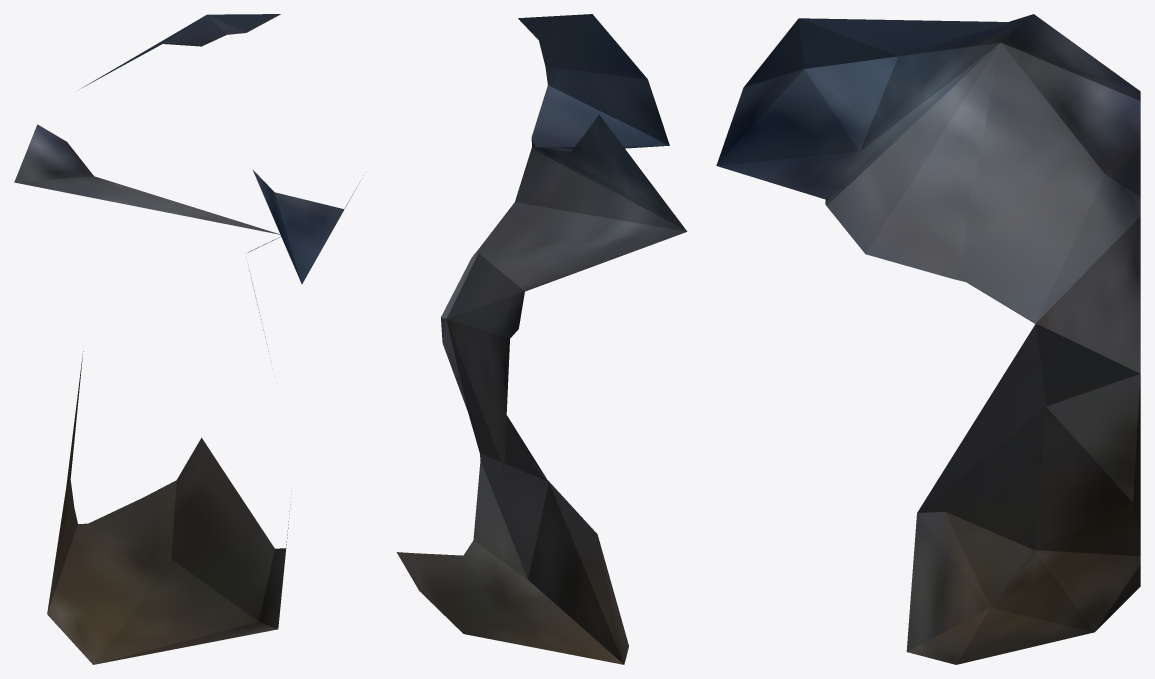
3 renders of one model, left to right at view 1: azimuth 30°, elevation 25°; view 2: azimuth 150°, elevation 25°; view 3: azimuth 270°, elevation 25°, orthographic. The views are drawn at different scales.
Bounding box in the file's own units: 0.2149 × 0.5027 × 0.294.
Materials: 1 (1 with a texture image).
